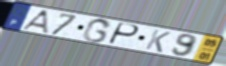7: (50, 13, 79, 36)
9: (169, 33, 199, 58)
A: (19, 9, 51, 35)
G: (81, 18, 113, 44)
K: (144, 28, 173, 54)
P: (106, 22, 141, 46)
